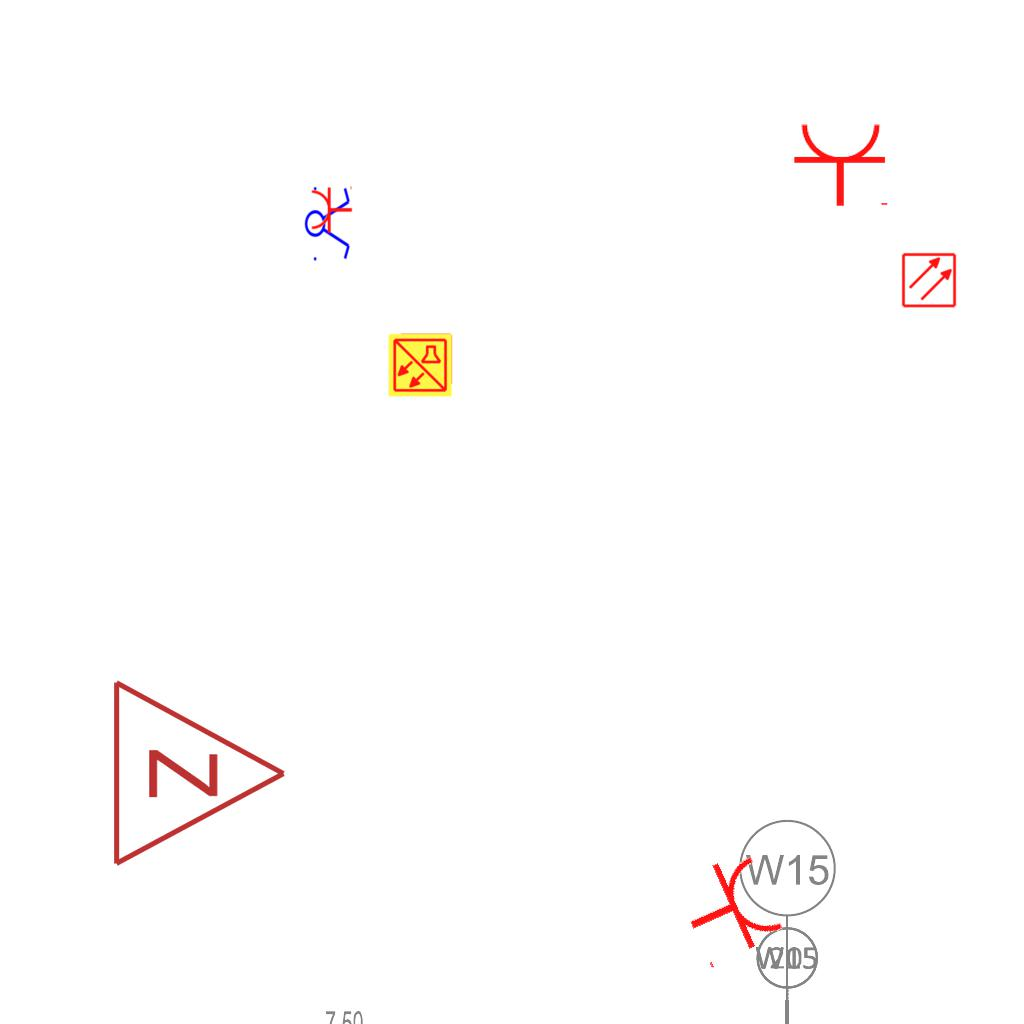OKW_Multisensormelder_(Kombination_optischer_Rauch-Kahlenmonoxid_Waerme-Melder): (387, 332, 453, 398)
RMO_Rauchmelder_optischer: (901, 252, 957, 308)
Schukosteckdose_einfach: (670, 846, 791, 974), (792, 121, 892, 208), (310, 184, 353, 234)
Serienschalter: (304, 181, 352, 265)
Zimmersignalleuchte: (99, 673, 299, 869)
